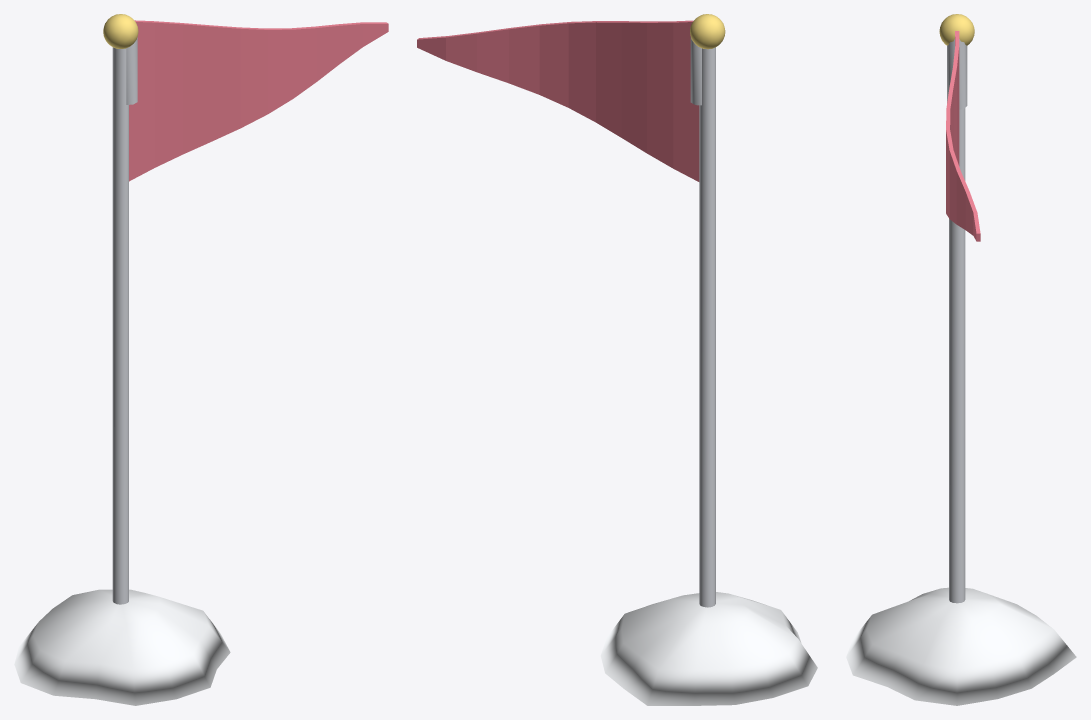
The model's file is SnowballSummitFlag.glb.
3 renders of one model, left to right at view 1: azimuth 30°, elevation 25°; view 2: azimuth 150°, elevation 25°; view 3: azimuth 270°, elevation 25°, orthographic.
Parts seen in each view (by area): view 1: Cloth, Mound, Pole, Knob; view 2: Cloth, Mound, Pole, Knob; view 3: Mound, Pole, Cloth, Knob.
Part boxes in pixels (<box>): Cloth: <box>129,20,388,181</box>; Mound: <box>14,589,230,705</box>; Pole: <box>112,37,137,604</box>; Knob: <box>103,14,138,48</box>; Cloth: <box>417,20,699,181</box>; Mound: <box>600,592,817,705</box>; Pole: <box>690,37,715,607</box>; Knob: <box>690,14,725,49</box>; Mound: <box>846,587,1076,705</box>; Pole: <box>947,39,967,603</box>; Cloth: <box>946,31,980,241</box>; Knob: <box>939,14,974,45</box>.
Size of the model in its own units: 6.4 by 10.41 by 3.39.
